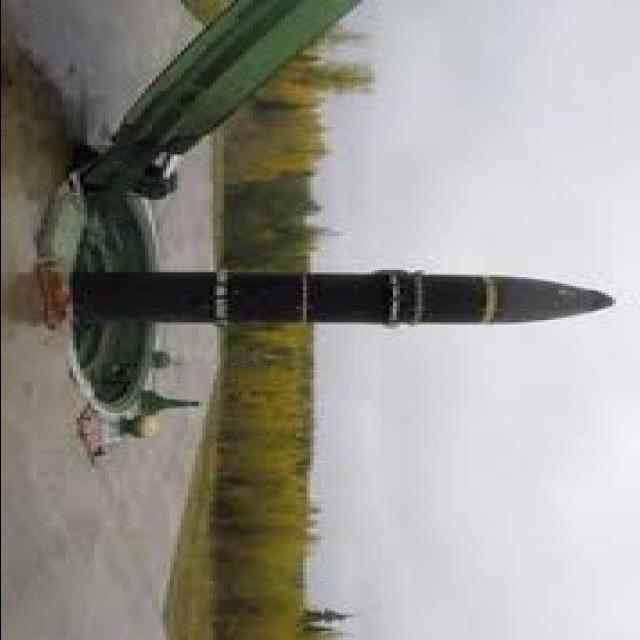missile: (64, 263, 633, 357)
